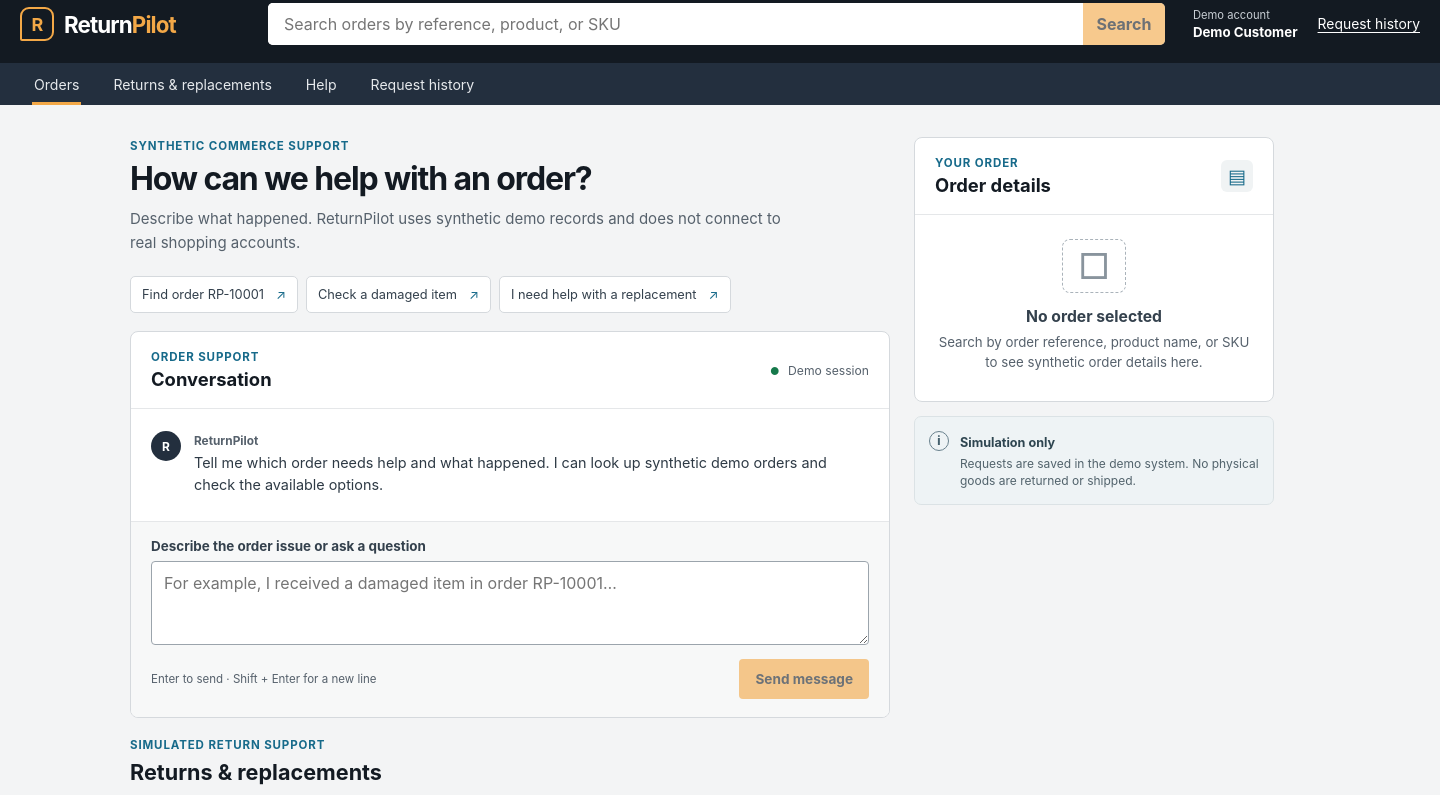
Test case: customer workspace › renders proposal snapshot and confirms only the persisted request response
The width and height of the screenshot is (1440, 795).
Expected: the text "Demo Customer" is shown, [1193,24,1298,40]
In the text box labelled "Describe the order issue or ask a question": (510, 603) [151,561,869,645], type "Find order RP-10001"
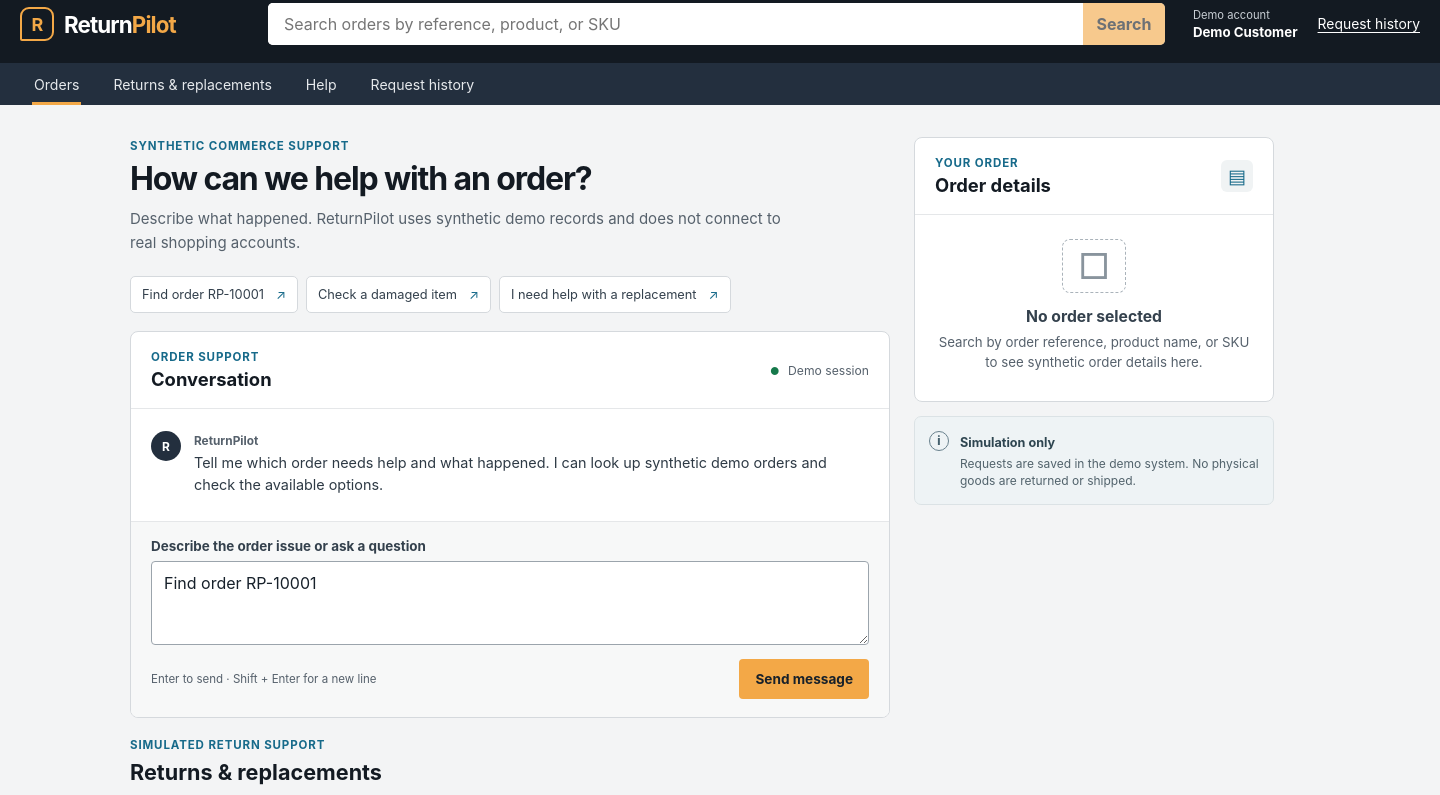
Click the button "Send message": (804, 679) [739,659,869,699]
(page scrolled)
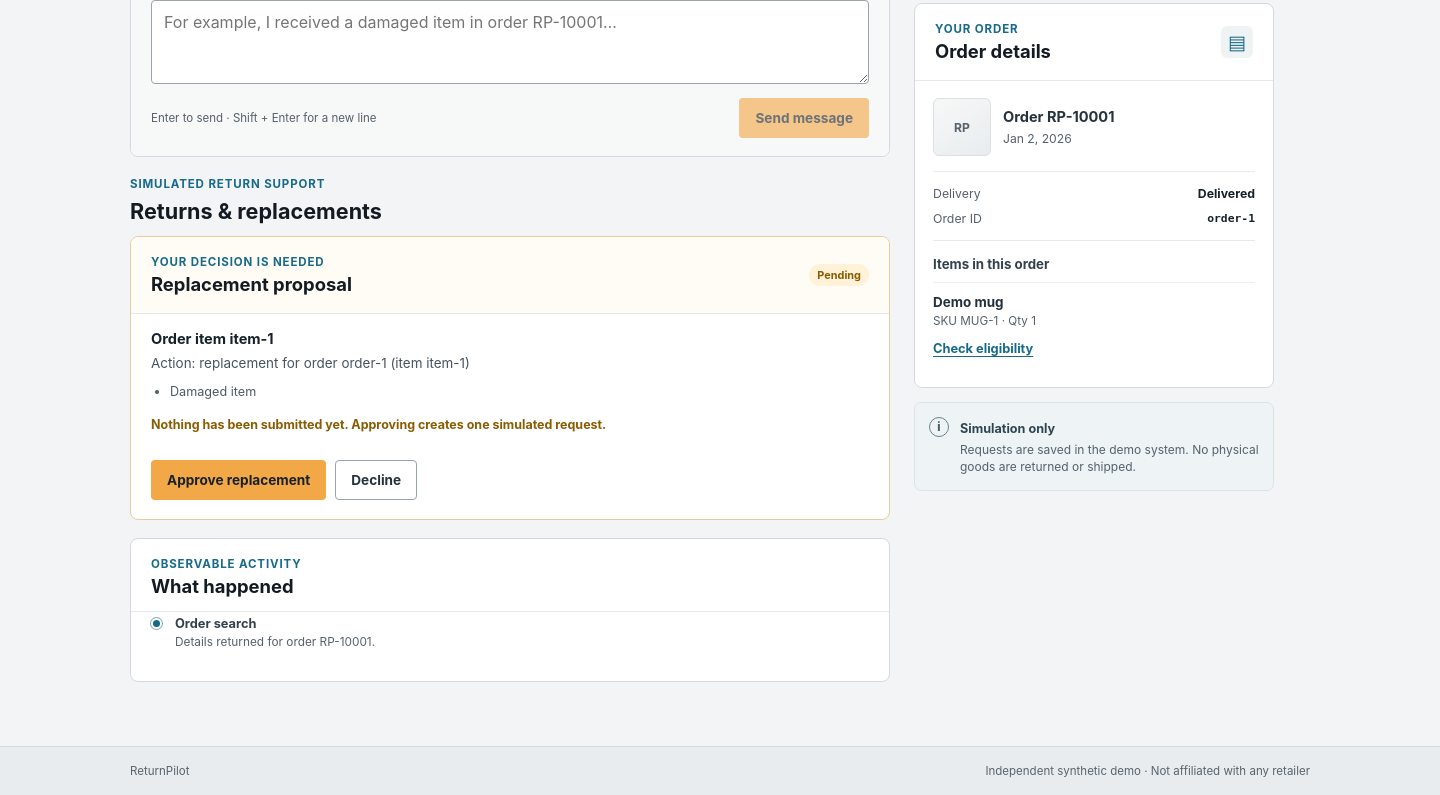
Expected: the heading "Replacement proposal" is shown, [151,273,352,295]
Expected: the list item "Damaged item" is shown, [170,384,256,400]
Click the button with aria-label "Approve replacement proposal": (239, 480) [151,460,326,500]
(page scrolled)
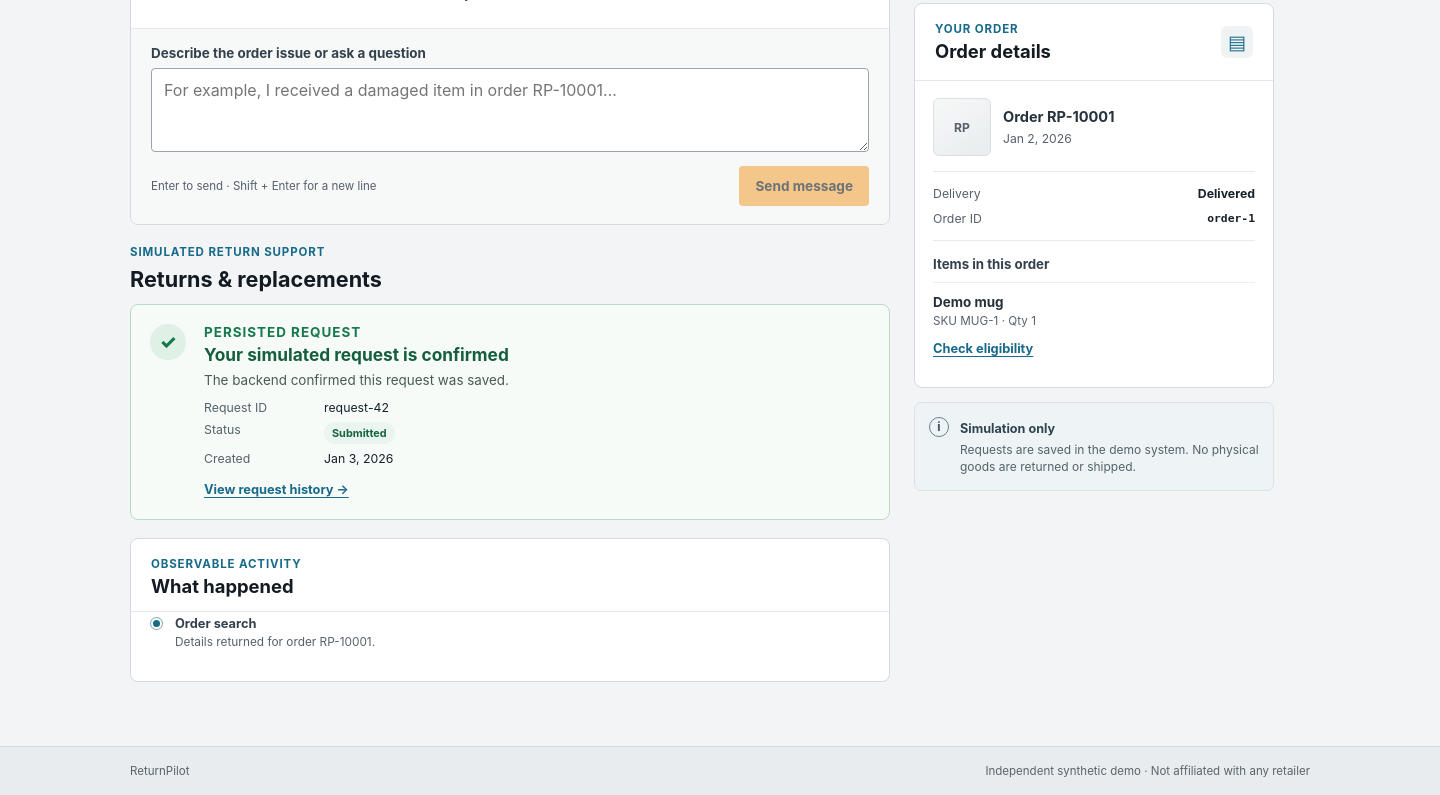
Expected: the heading "Your simulated request is confirmed" is shown, [204,344,509,365]
Expected: the text "request-42" is shown, [324,400,389,415]
Expected: the text "Submitted" is shown, [324,422,395,444]
